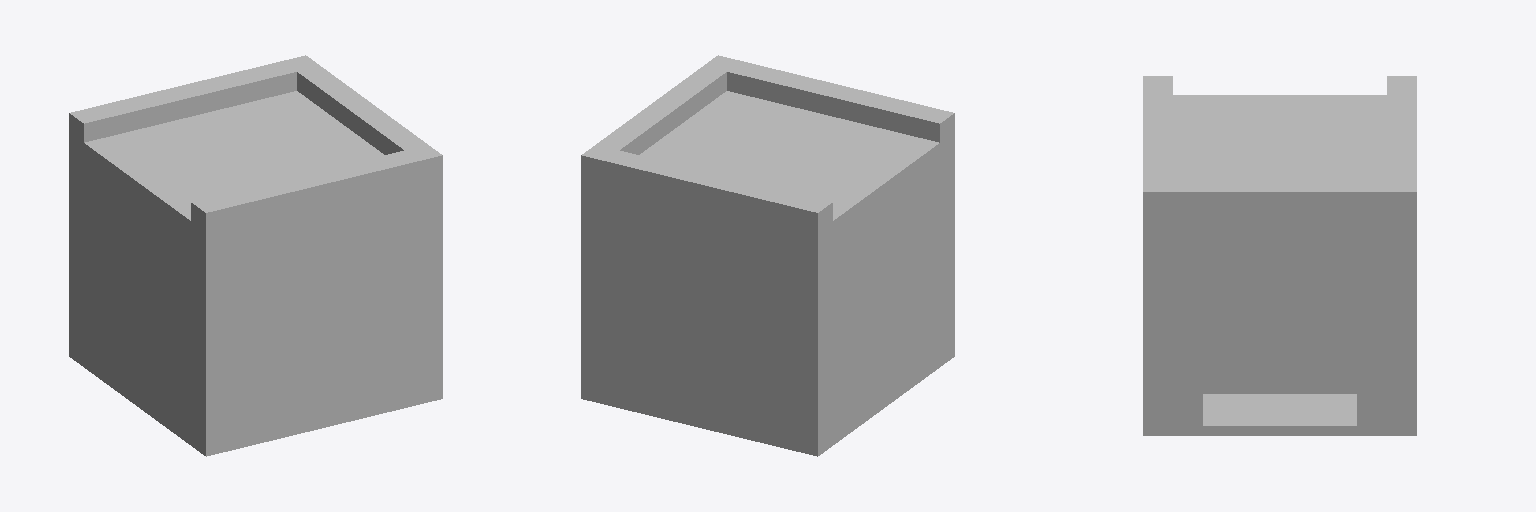
File: arenito.obj
3 renders of one model, left to right at view 1: azimuth 30°, elevation 25°; view 2: azimuth 150°, elevation 25°; view 3: azimuth 270°, elevation 25°, orthographic.
Visible parts, largest first — view 1: Cube; view 2: Cube; view 3: Cube.
Boxes of the visible parts, box(x1,y1,x2,y2) form: Cube: box(69, 55, 442, 456); Cube: box(581, 55, 954, 456); Cube: box(1143, 76, 1416, 435).
Size of the model in its own units: 1.4 by 1.38 by 1.4.